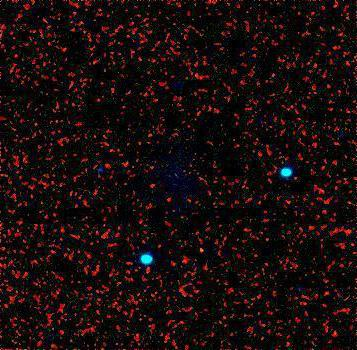star: (188, 234, 218, 264)
